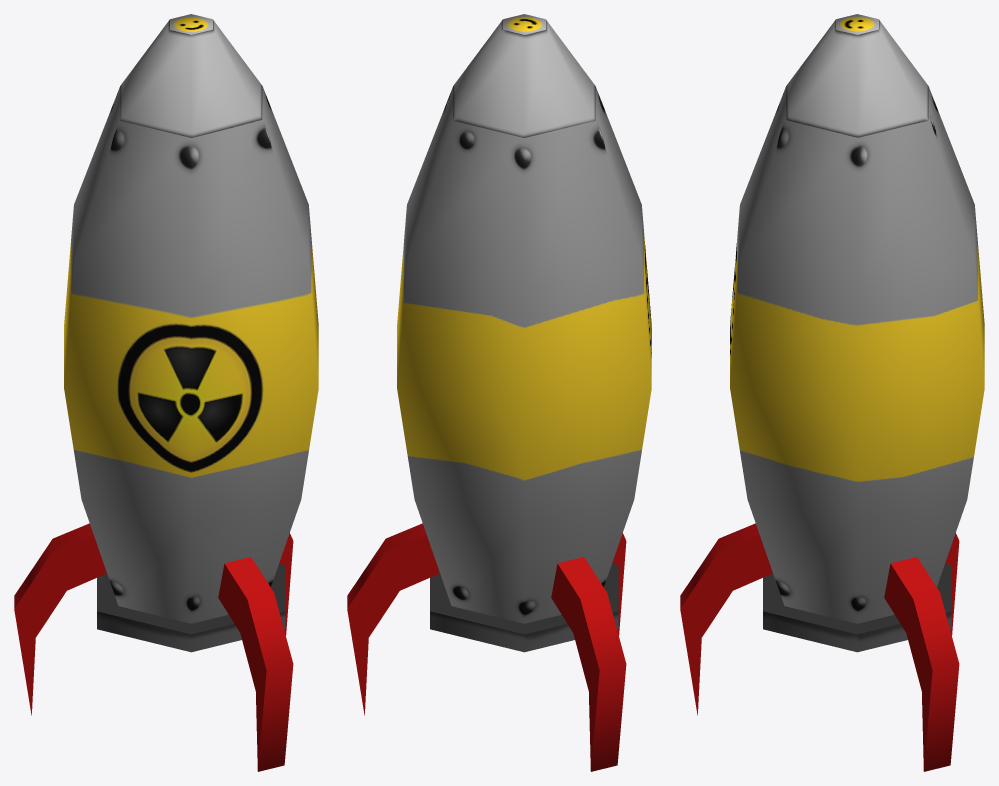
Rendered from Missile.fbx.
The picture shows the model from 3 angles, left to right: view 1: azimuth 30°, elevation 25°; view 2: azimuth 150°, elevation 25°; view 3: azimuth 270°, elevation 25°; orthographic projection.
Parts seen in each view (by area): view 1: missile; view 2: missile; view 3: missile.
Part boxes in pixels (x1,y1,x2,y2): missile: [14, 14, 318, 771]; missile: [347, 14, 651, 771]; missile: [680, 14, 984, 771].
Size of the model in its own units: 3.51 by 8.24 by 3.32.
